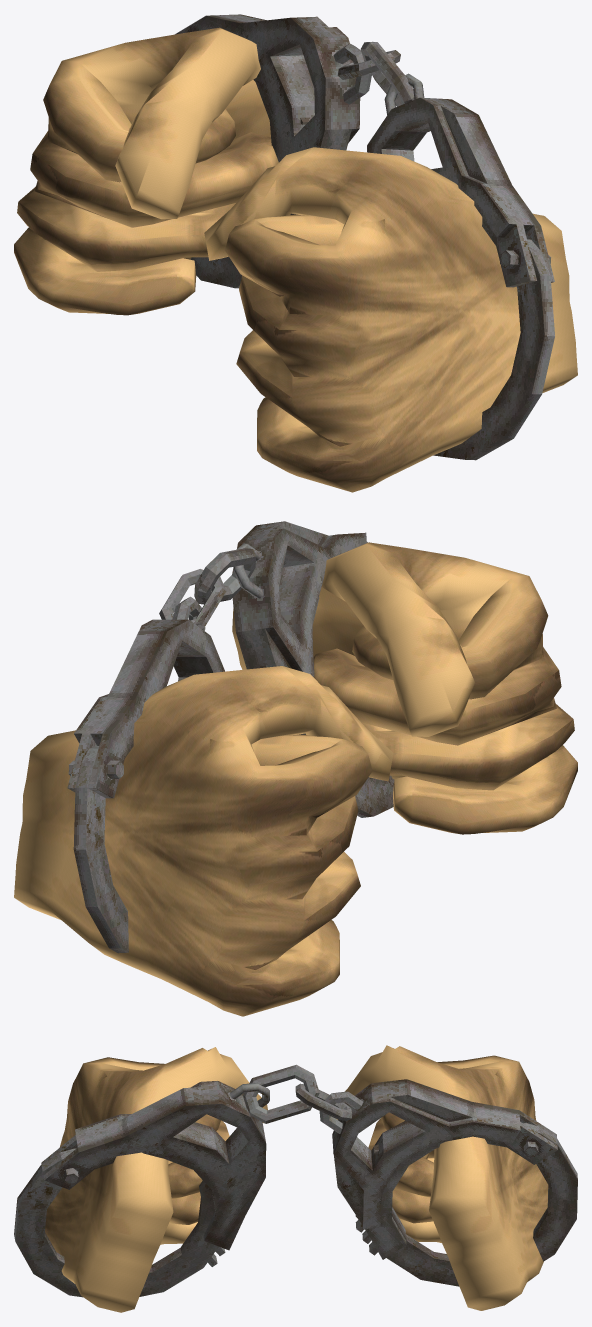
File: dealer hand_handcuffed1.glb
3 views of the same model, one above another, from view 1: azimuth 30°, elevation 25°; view 2: azimuth 150°, elevation 25°; view 3: azimuth 270°, elevation 25° (orthographic). The views are drawn at different scales.
Parts seen in each view (by area): view 1: dealer hand_left handcuffed, dealer hand_right handcuffed, dealer handcuffs parent, handcuffs dealer pivot2_001, dealer handcuffs pivot parent, handcuffs dealer pivot2_003; view 2: dealer hand_right handcuffed, dealer hand_left handcuffed, dealer handcuffs parent, handcuffs dealer pivot2_001, handcuffs dealer pivot2_003, dealer handcuffs pivot parent; view 3: dealer hand_right handcuffed, dealer hand_left handcuffed, dealer handcuffs parent, handcuffs dealer pivot2_001, dealer handcuffs pivot parent, handcuffs dealer pivot2_003.
Part boxes in pixels (x1,y1,x2,y2): dealer hand_left handcuffed: [204, 147, 577, 492]; dealer hand_right handcuffed: [14, 27, 278, 315]; dealer handcuffs parent: [175, 14, 371, 288]; handcuffs dealer pivot2_001: [360, 41, 554, 287]; dealer handcuffs pivot parent: [433, 239, 554, 460]; handcuffs dealer pivot2_003: [337, 50, 400, 79]; dealer hand_right handcuffed: [14, 666, 393, 1016]; dealer hand_left handcuffed: [232, 542, 577, 834]; dealer handcuffs parent: [67, 596, 224, 953]; handcuffs dealer pivot2_001: [194, 521, 367, 734]; handcuffs dealer pivot2_003: [159, 569, 226, 629]; dealer handcuffs pivot parent: [355, 775, 394, 817]; dealer hand_right handcuffed: [336, 1045, 548, 1310]; dealer hand_left handcuffed: [45, 1047, 267, 1312]; dealer handcuffs parent: [319, 1079, 577, 1286]; handcuffs dealer pivot2_001: [41, 1064, 319, 1250]; dealer handcuffs pivot parent: [14, 1148, 225, 1297]; handcuffs dealer pivot2_003: [295, 1083, 351, 1120].
Size of the model in its own units: 2.29 by 2.3 by 4.61.
2 materials, 2 textured.
